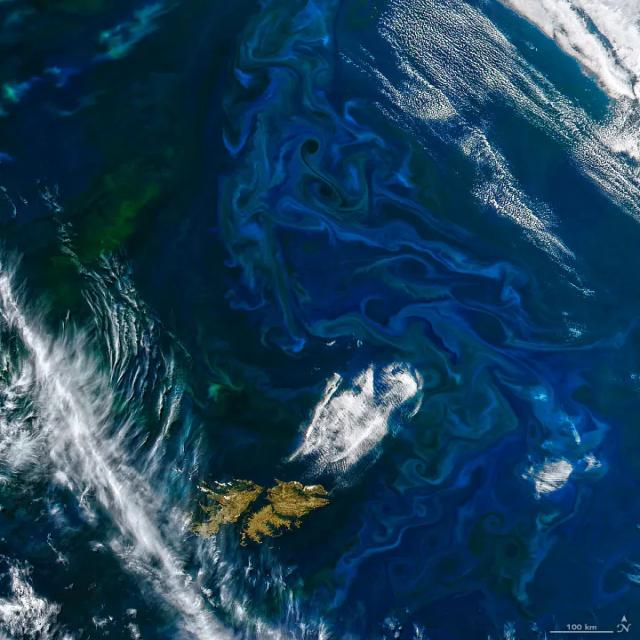algal: (40, 155, 223, 404)
oil spill: (219, 0, 636, 636), (251, 100, 490, 370), (7, 29, 197, 154), (420, 430, 538, 616)
